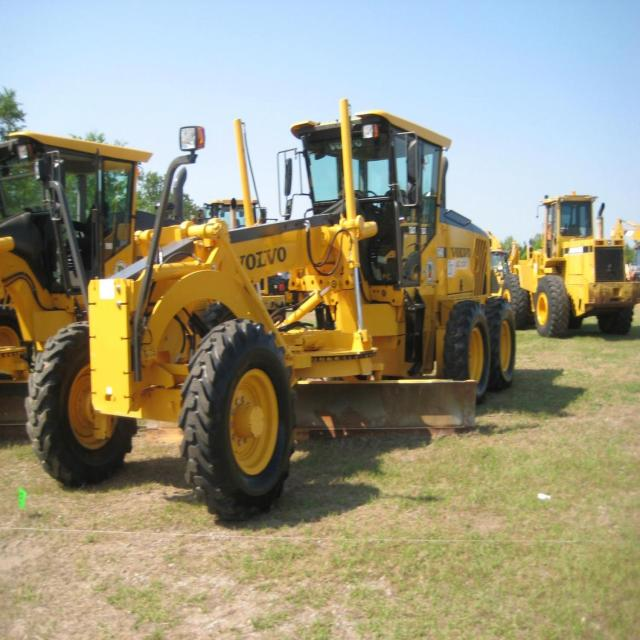buldozerpayloadergrader: (12, 94, 566, 527)
